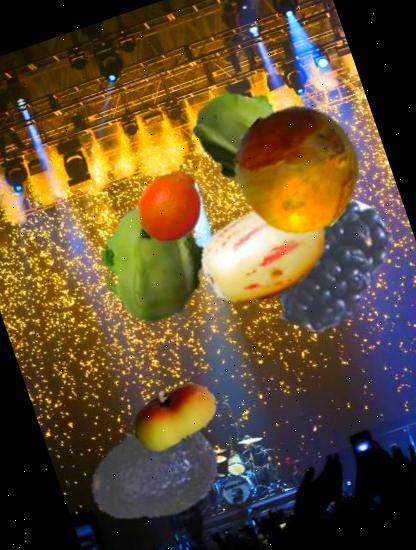Avocado: (70, 390, 234, 550)
Kohlrabi: (68, 169, 242, 342), (180, 69, 312, 201)
Mulberry: (241, 175, 416, 352)
Onion: (217, 87, 380, 250)
Peach: (119, 358, 230, 470)
Pepino: (181, 171, 348, 338)
Tangelo: (124, 158, 218, 252)
